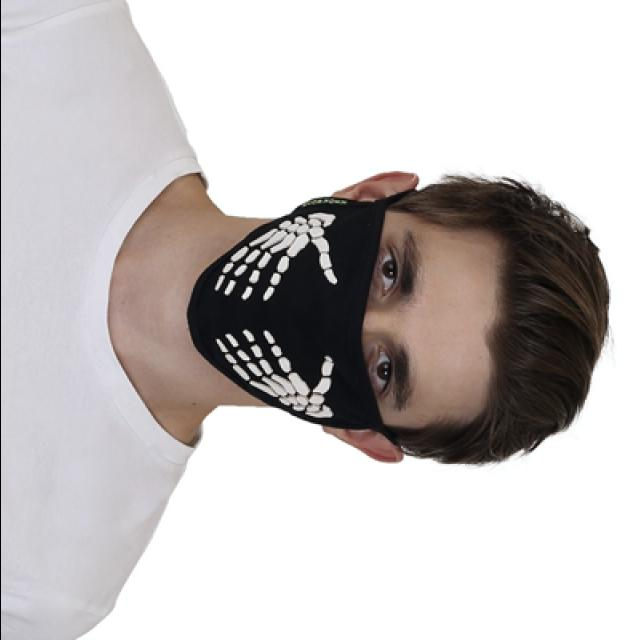with_mask: (187, 198, 440, 432)
